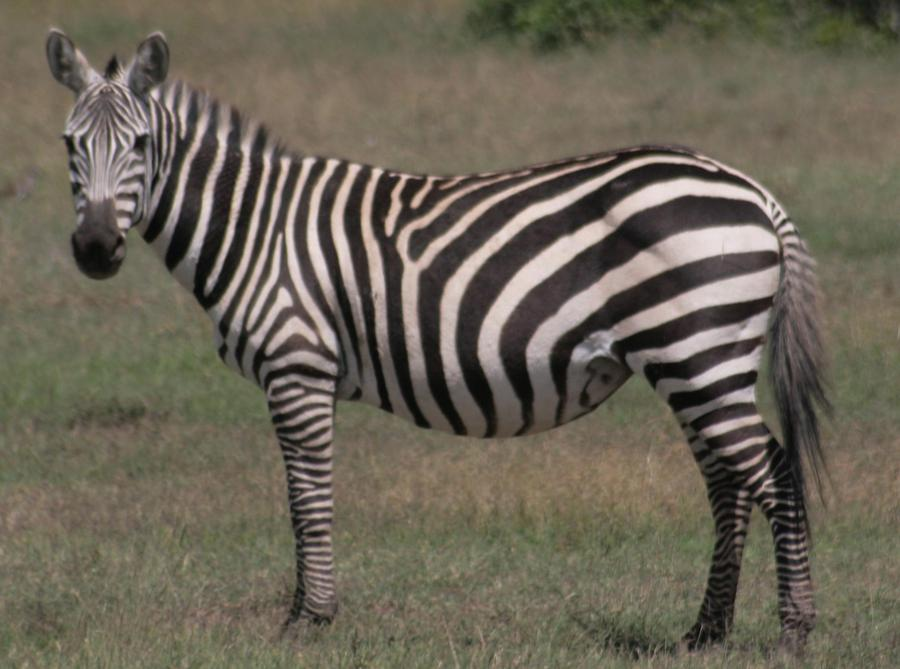zebra_plains: (214, 133, 778, 425)
